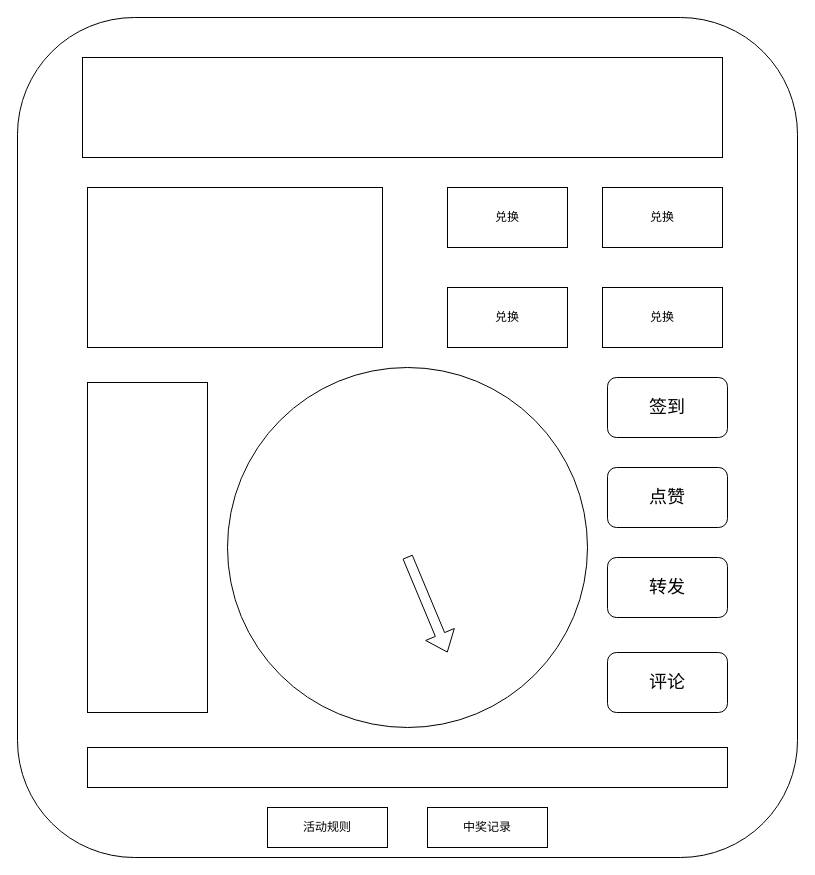
Image size: 815x875. Some labels were removed from this diagram. Here are the shapes that lost their labels. From the top down, the centre of each, then its label:
point (402, 107): 大标题：Dasi 抽奖
point (234, 267): 用户： 用户积分： 总剩余抽奖次数： 当月剩余抽奖次数： 当日剩余抽奖次数： 当月待领取抽奖次数： 当日待领取抽奖次数：
point (147, 547): 竖直弹幕展示历史中奖列表
point (407, 547): 圆形轮盘抽奖
point (407, 767): 幸运值进度条
